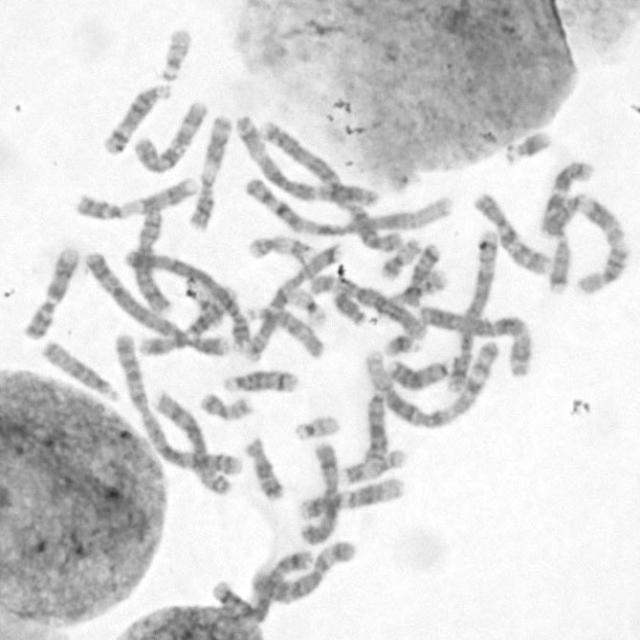A1: (241, 175, 457, 237), (361, 336, 500, 430)
A2: (255, 118, 404, 255), (112, 330, 242, 478)
A3: (232, 113, 382, 209), (415, 302, 533, 379)
B4: (84, 250, 234, 358), (122, 246, 252, 353)
B5: (444, 228, 497, 394), (211, 548, 315, 622)
C10: (472, 192, 553, 275), (131, 100, 212, 175)
C11: (190, 109, 237, 232), (545, 191, 625, 249)
C12: (136, 282, 242, 358), (298, 475, 407, 521)
C6: (307, 272, 431, 342), (250, 539, 356, 606)
C7: (246, 241, 344, 357), (536, 156, 597, 296)
C8: (152, 391, 233, 497), (131, 208, 174, 317)
C9: (74, 171, 201, 223), (20, 244, 80, 342)
D13: (384, 353, 462, 394), (362, 389, 388, 467)
D14: (101, 82, 173, 158), (222, 367, 299, 397)
D15: (42, 336, 123, 404), (243, 304, 324, 360)
E16: (375, 268, 450, 318), (573, 240, 630, 298)
E17: (339, 448, 406, 488), (248, 230, 318, 264)
E18: (242, 436, 286, 502), (404, 241, 441, 301)
F19: (285, 284, 327, 330)
F20: (377, 234, 423, 282), (199, 391, 258, 424)
G21: (501, 128, 554, 168), (382, 331, 424, 360)
G22: (159, 25, 194, 83), (292, 414, 342, 442)
X: (296, 440, 342, 546)
Y: (331, 288, 367, 328)
